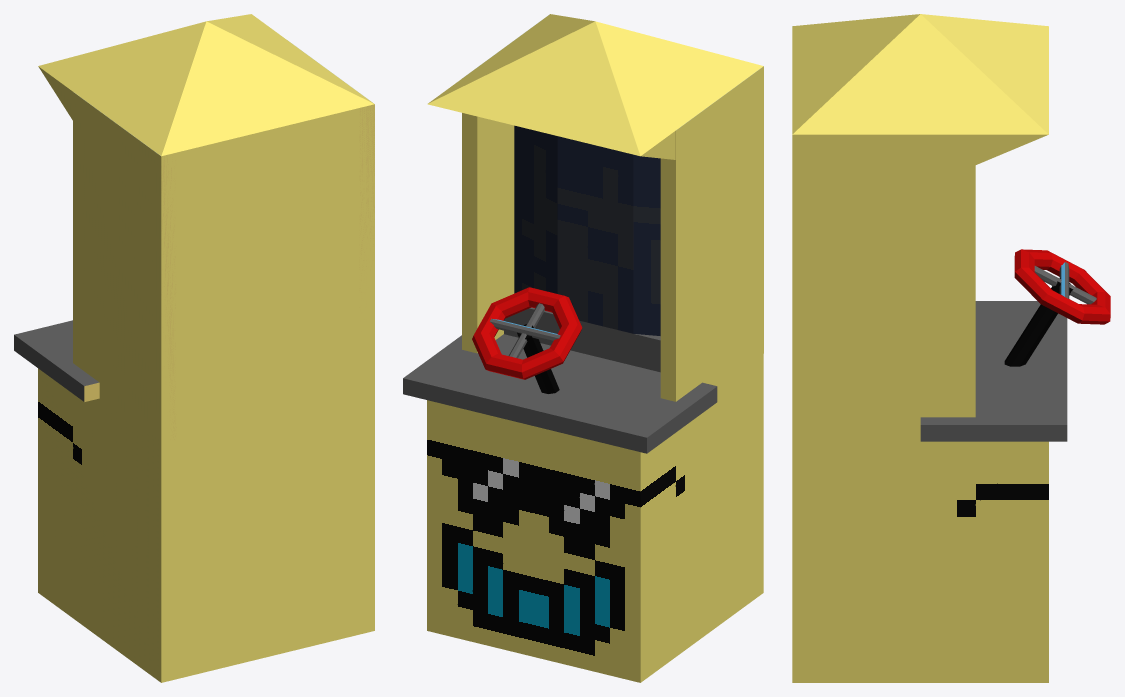
The model's file is Racing Aracade Machine.glb.
The picture shows the model from 3 angles, left to right: view 1: azimuth 30°, elevation 25°; view 2: azimuth 150°, elevation 25°; view 3: azimuth 270°, elevation 25°; orthographic projection. The views are drawn at different scales.
Visible parts, largest first — view 1: Cabinet, pyramid; view 2: Cabinet, cylinder (×3), pyramid, torus; view 3: Cabinet, pyramid, torus, cylinder (×2).
Boxes of the visible parts, x1,y1,x2,y2 form: Cabinet: (14,40,374,682); pyramid: (38,14,374,156); Cabinet: (403,14,763,682); cylinder (×3): (490,125,660,393); pyramid: (427,14,763,156); torus: (472,287,582,379); Cabinet: (792,26,1067,682); pyramid: (792,14,1048,134); torus: (1014,249,1110,324); cylinder (×2): (1004,266,1096,366).
Bounding box in the file's own units: 1 × 2.31 × 1.09.
1 material, 1 textured.
